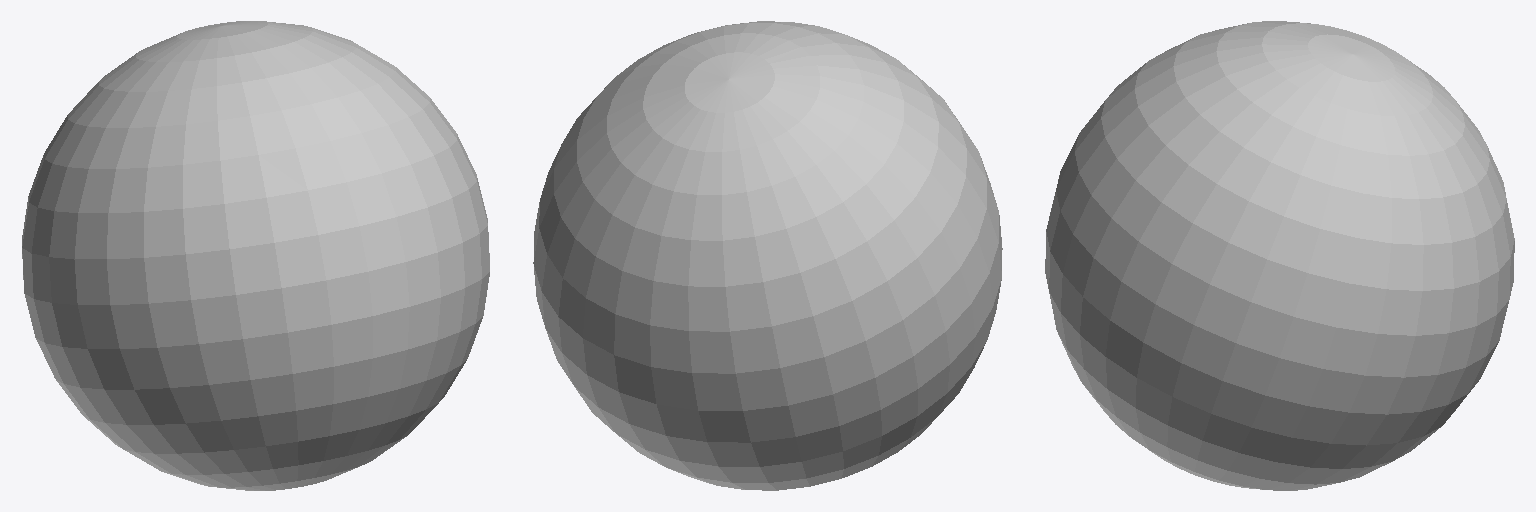
The model's file is Left Wrist.obj.
3 renders of one model, left to right at view 1: azimuth 30°, elevation 25°; view 2: azimuth 150°, elevation 25°; view 3: azimuth 270°, elevation 25°, orthographic.
Visible parts, largest first — view 1: Left_Wrist_Sphere.030; view 2: Left_Wrist_Sphere.030; view 3: Left_Wrist_Sphere.030.
Boxes of the visible parts, x1=… form: Left_Wrist_Sphere.030: x1=22, y1=21, x2=489, y2=490; Left_Wrist_Sphere.030: x1=533, y1=21, x2=1002, y2=490; Left_Wrist_Sphere.030: x1=1045, y1=21, x2=1514, y2=490.
Bounding box in the file's own units: 0.28 × 0.2792 × 0.2792.